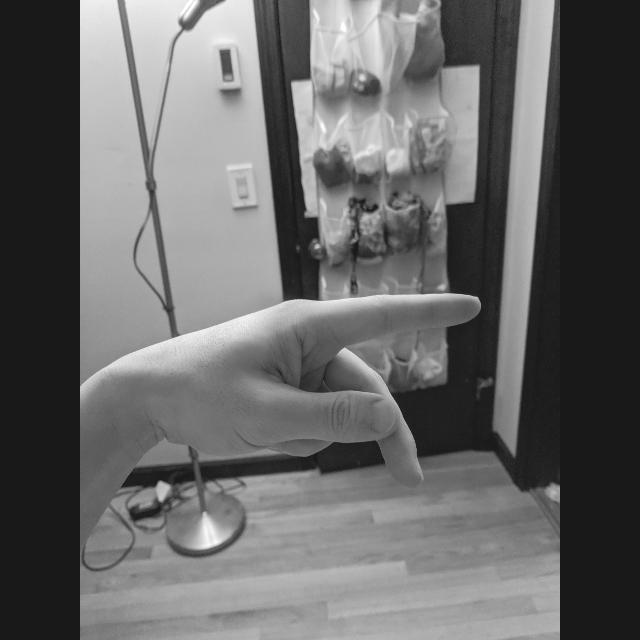P: (135, 286, 487, 490)
